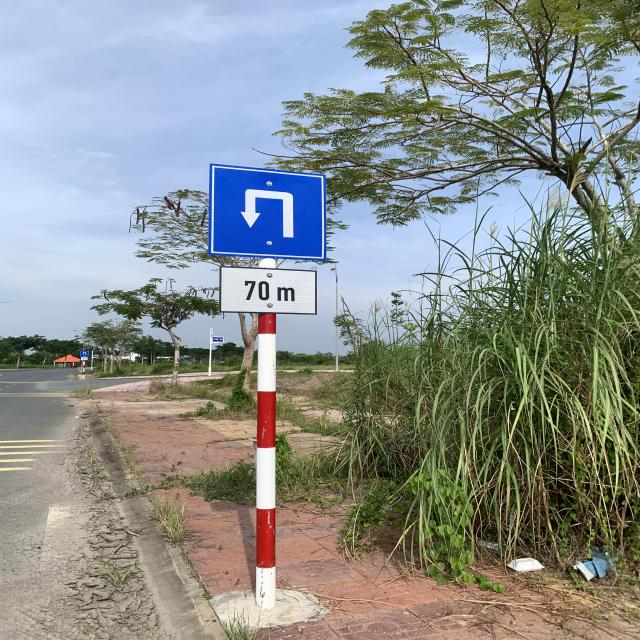Den_Giao_Thong: (211, 164, 326, 258)
